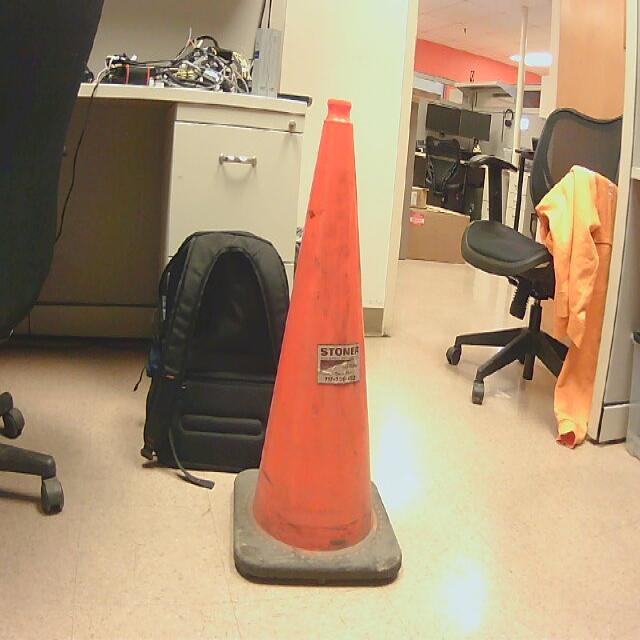traffic cone: (234, 100, 404, 592)
